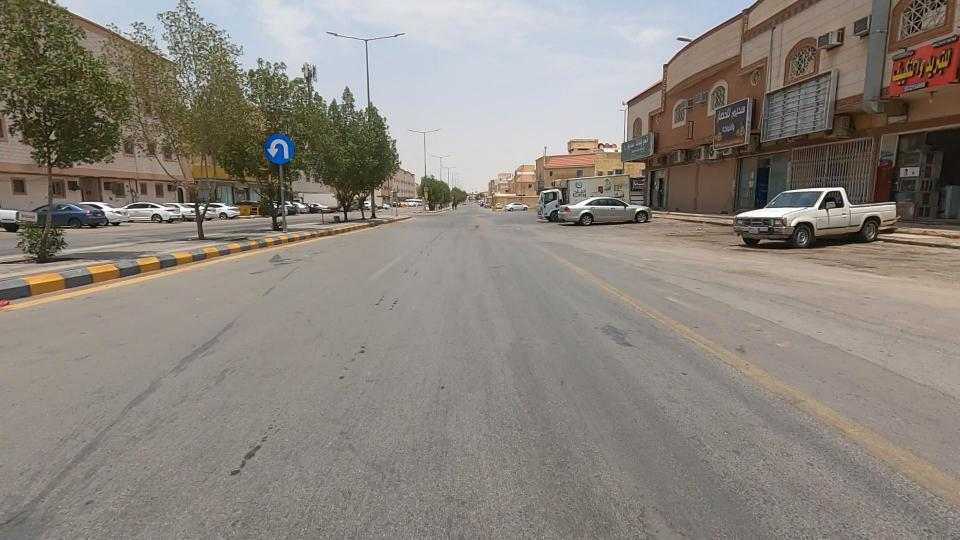BAD_BILLBOARD: (714, 51, 895, 172)
